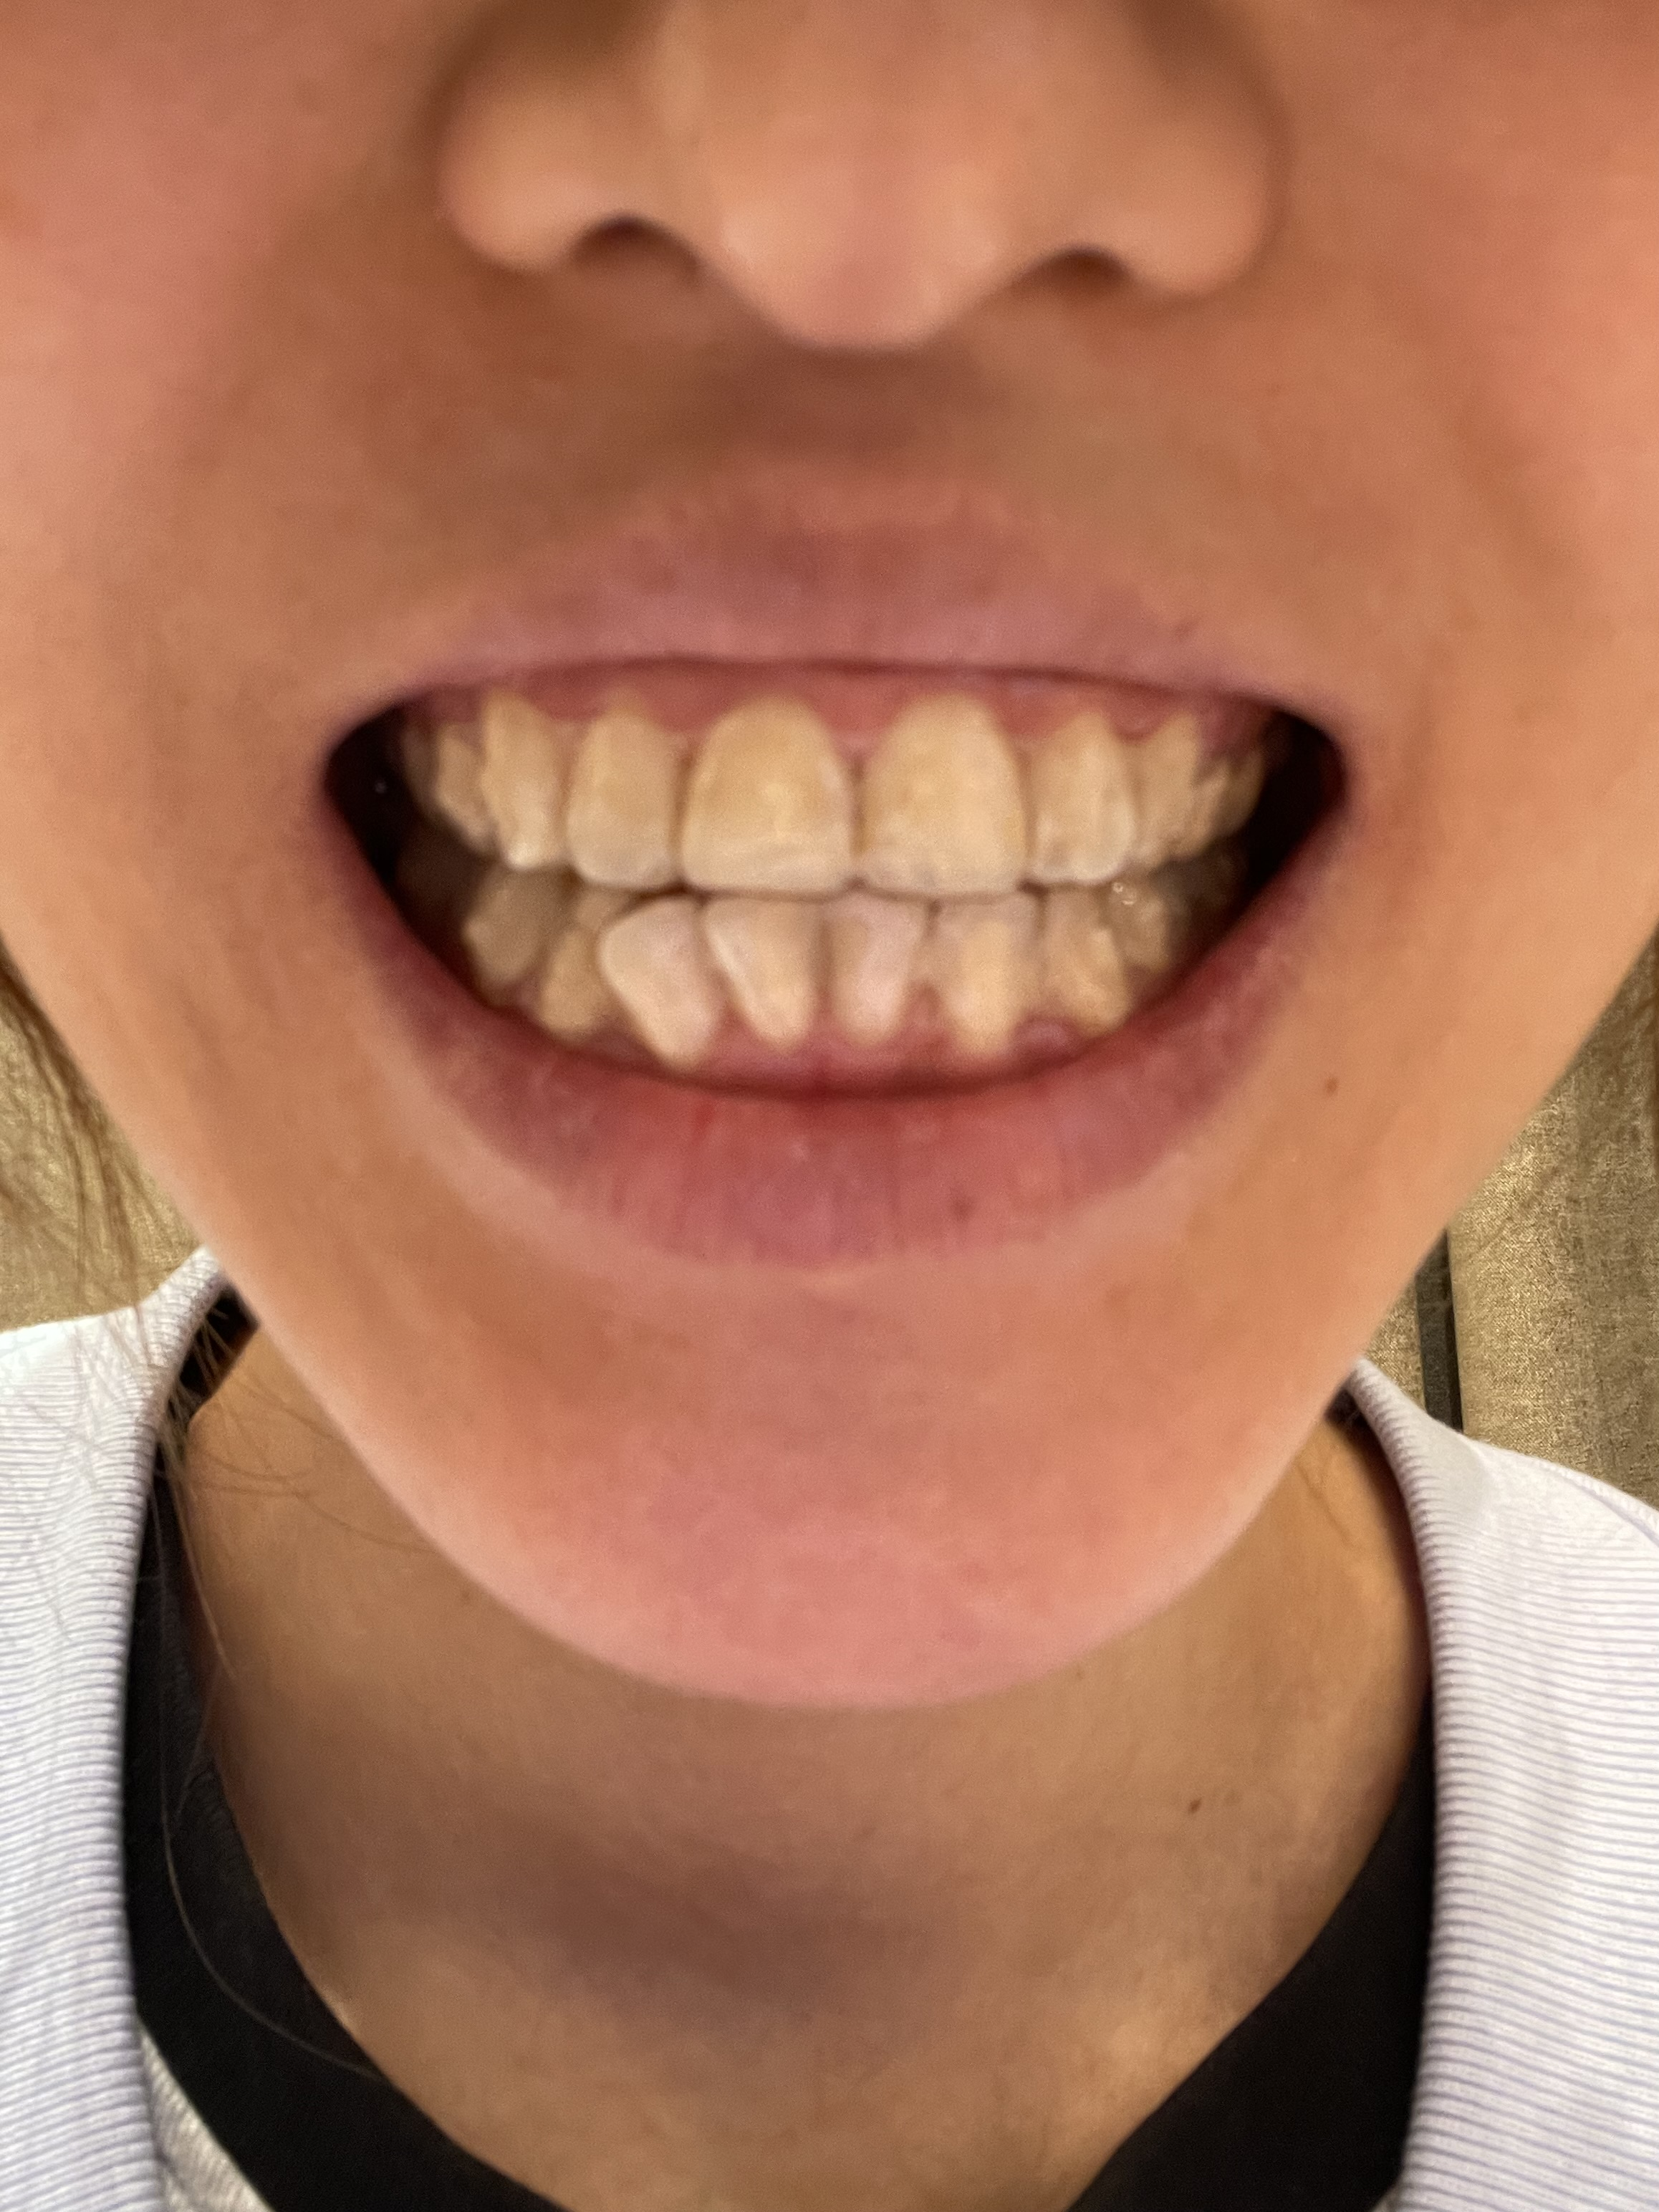teeth: (697, 723, 814, 887), (890, 723, 1004, 874), (606, 902, 692, 1045), (575, 730, 653, 864), (713, 914, 798, 1031), (950, 913, 1023, 1031), (845, 913, 911, 1029), (474, 730, 526, 862), (1060, 758, 1117, 855), (490, 883, 552, 963), (1070, 913, 1121, 975), (556, 930, 592, 1000)
